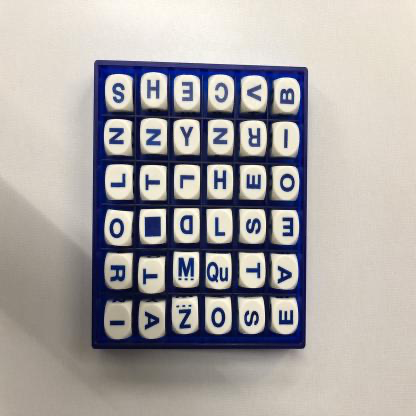a: (272, 256, 297, 290), (140, 304, 165, 337)
b: (275, 79, 302, 114)
c: (209, 76, 235, 112)
d: (175, 209, 202, 243)
e: (175, 77, 202, 110), (241, 167, 266, 201), (273, 301, 298, 335), (274, 212, 300, 244)
h: (141, 75, 168, 108), (208, 166, 234, 200)
i: (274, 123, 300, 158), (107, 305, 132, 336)
l: (107, 166, 133, 201), (175, 167, 201, 201), (207, 211, 233, 243)
m: (175, 254, 201, 287)
n: (105, 120, 133, 155), (208, 120, 235, 153), (141, 122, 167, 156)
o: (107, 210, 133, 247), (206, 299, 233, 333), (273, 168, 298, 202)
qu: (207, 254, 232, 289)
r: (241, 124, 268, 158), (106, 255, 132, 290)
s: (107, 77, 135, 111), (240, 210, 267, 243), (240, 300, 266, 334)
t: (140, 166, 166, 200), (139, 259, 164, 293), (240, 255, 266, 287)
v: (242, 78, 269, 111)
wild: (141, 211, 168, 245)
y: (175, 120, 202, 155)
z: (173, 299, 198, 333)
